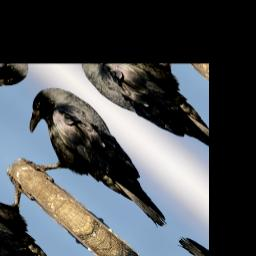Crow: (0, 75, 197, 256)
